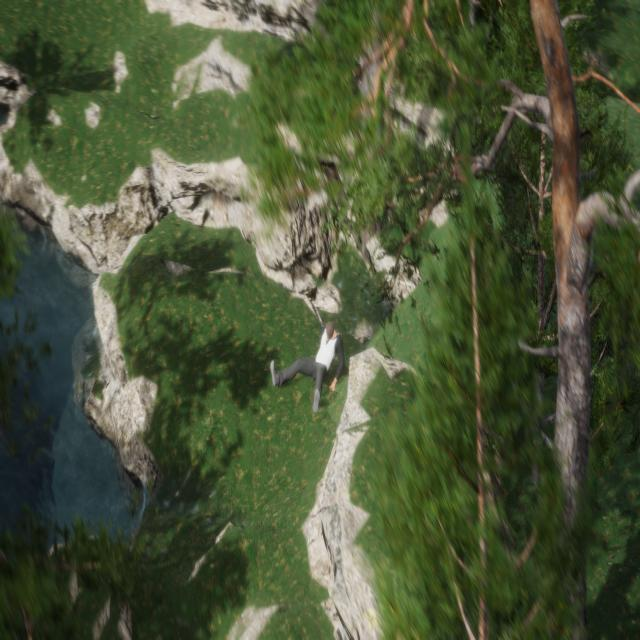Human: (269, 300, 348, 420)
